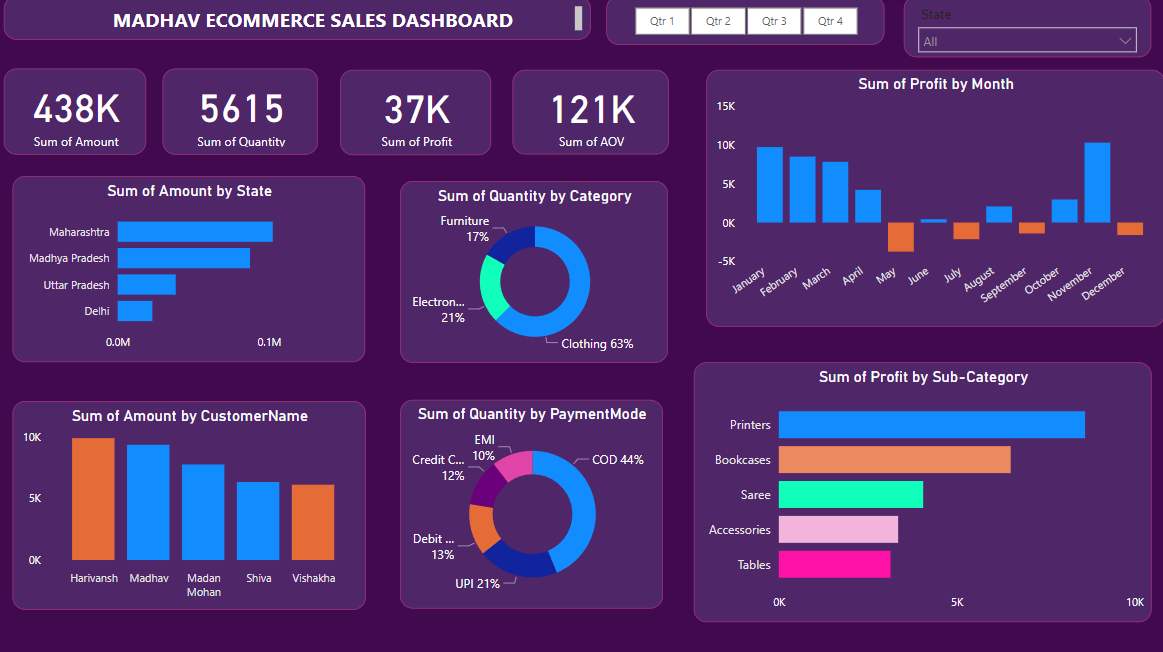

What the dashboard file says about the page in this screenshot:
{"tool":"powerbi","page":{"name":"Page 1","canvas":[1280,720],"ordinal":0},"visuals":[{"type":"textbox","box":[9.6,0,643,48],"z":0},{"type":"clusteredColumnChart","fields":{"Y":["Details.Profit"],"Category":["Orders.Order Date.Variation.Date Hierarchy.Month"]},"box":[778.5,80.7,502.1,281.8],"z":1000},{"type":"barChart","fields":{"Category":["Details.Sub-Category"],"Y":["Details.Profit"]},"box":[765,401.7,501.8,285.2],"z":2000},{"type":"donutChart","fields":{"Category":["Details.Category"],"Y":["Details.Quantity"]},"box":[444.2,202.9,293.4,198.8],"z":3000},{"type":"donutChart","fields":{"Y":["Details.Quantity"],"Category":["Details.PaymentMode"]},"box":[444.2,442.8,287.9,229],"z":4000},{"type":"card","fields":{"Values":["Details.Amount"]},"box":[9.6,79.5,156.3,94.6],"z":5000},{"type":"card","fields":{"Values":["Details.Quantity"]},"box":[183.7,79.5,170,94.6],"z":6000},{"type":"card","fields":{"Values":["Details.Profit"]},"box":[378.4,80.9,165.9,93.2],"z":7000},{"type":"card","fields":{"Values":["Details.AOV"]},"box":[566.4,80.7,171,93],"z":8000},{"type":"barChart","fields":{"Category":["Orders.State"],"Y":["Details.Amount"]},"box":[19.2,197.4,386.6,204.3],"z":9000},{"type":"columnChart","fields":{"Category":["Orders.CustomerName"],"Y":["Details.Amount"]},"box":[19,443,387,229],"z":10000},{"type":"slicer","fields":{"Values":["Orders.Order Date.Variation.Date Hierarchy.Quarter"]},"box":[669,0,305.1,53.4],"z":11000},{"type":"slicer","fields":{"Values":["Orders.State"]},"box":[996,0,270.9,67],"z":12000}]}

Visuals, with their boxes in screenshot pixels (x1, y1, x2, y2), scaled from the page's 1280x720 canvas onto the 1163x652 screenshot:
textbox: <region>9, 0, 593, 43</region>
clusteredColumnChart - Details.Profit x Orders.Order Date.Variation.Date Hierarchy.Month: <region>707, 73, 1162, 328</region>
barChart - Details.Sub-Category x Details.Profit: <region>695, 364, 1151, 622</region>
donutChart - Details.Category x Details.Quantity: <region>404, 184, 670, 364</region>
donutChart - Details.Quantity x Details.PaymentMode: <region>404, 401, 665, 608</region>
card - Details.Amount: <region>9, 72, 151, 158</region>
card - Details.Quantity: <region>167, 72, 321, 158</region>
card - Details.Profit: <region>344, 73, 495, 158</region>
card - Details.AOV: <region>515, 73, 670, 157</region>
barChart - Orders.State x Details.Amount: <region>17, 179, 369, 364</region>
columnChart - Orders.CustomerName x Details.Amount: <region>17, 401, 369, 609</region>
slicer - Orders.Order Date.Variation.Date Hierarchy.Quarter: <region>608, 0, 885, 48</region>
slicer - Orders.State: <region>905, 0, 1151, 61</region>
